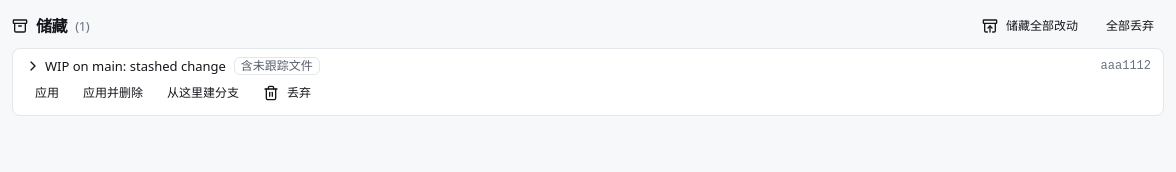
储藏面板 › 列出储藏、标记未跟踪，并允许展开文件清单
Check: the list with test id "stash-list" shows "含未跟踪文件", box [241,57,313,74]
Click the button with test id "stash-toggle-0" at [125, 66], box [25,57,226,75]
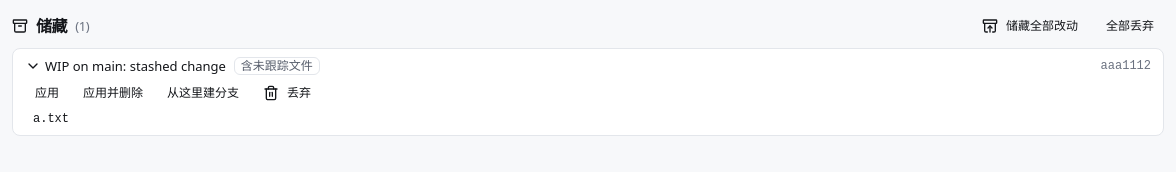
Check: the element with test id "stash-files" reads "a.txt", box [33,112,69,126]
